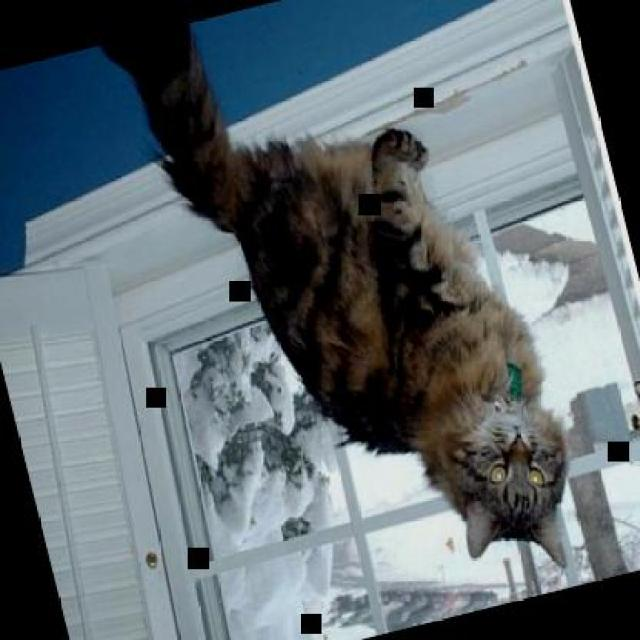cat: (95, 0, 596, 638)
